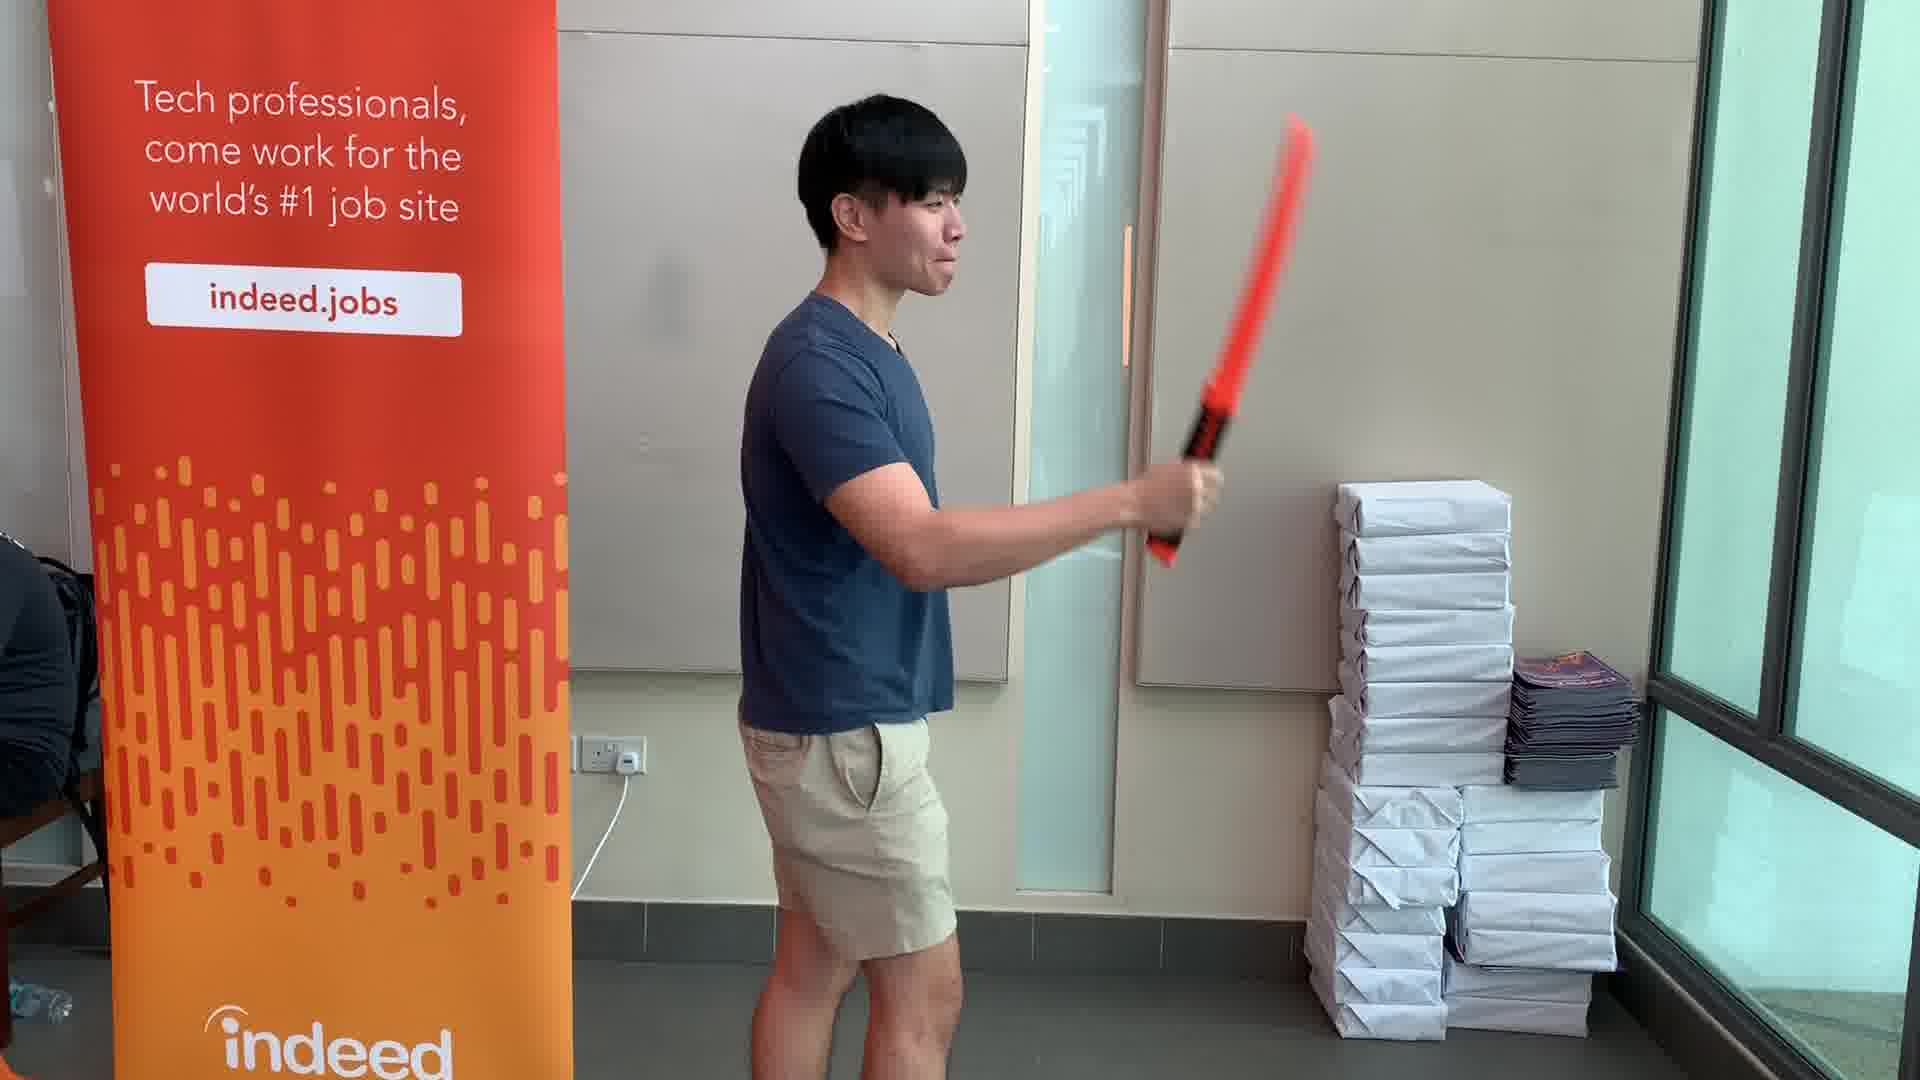knife: (1138, 109, 1325, 578)
